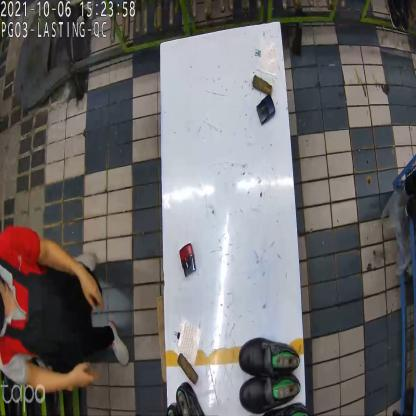shoes: (238, 338, 298, 412)
stamp: (254, 93, 275, 128), (180, 247, 196, 278)
